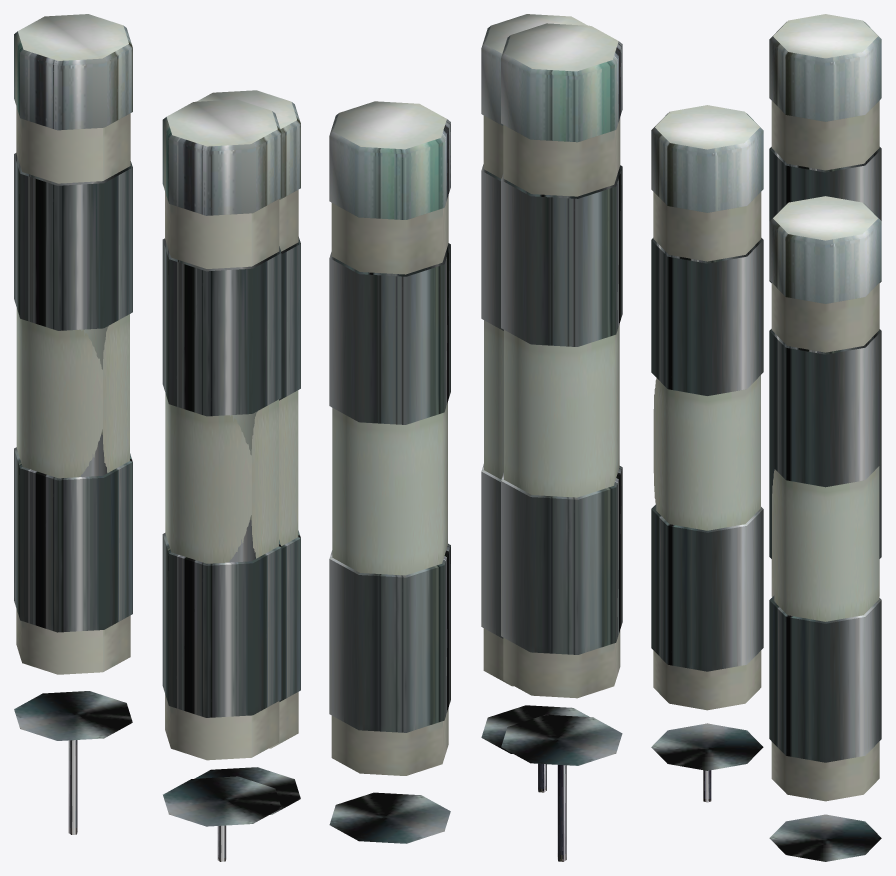
File: corporate_chandelier_10.fbx
The picture shows the model from 3 angles, left to right: view 1: azimuth 30°, elevation 25°; view 2: azimuth 150°, elevation 25°; view 3: azimuth 270°, elevation 25°; orthographic projection. The views are drawn at different scales.
Parts seen in each view (by area): view 1: mesh_0, mesh_1, mesh_2; view 2: mesh_0, mesh_1, mesh_2; view 3: mesh_0, mesh_1.
Part boxes in pixels (x1,y1,x2,y2): mesh_0: (14, 14, 300, 826); mesh_1: (16, 107, 298, 760); mesh_2: (68, 740, 226, 861); mesh_0: (329, 14, 622, 843); mesh_1: (331, 115, 620, 775); mesh_2: (538, 763, 566, 861); mesh_0: (651, 14, 881, 861); mesh_1: (653, 101, 879, 801).
Size of the model in its own units: 98.03 by 271 by 78.03.
Materials: 3 (3 with a texture image).
